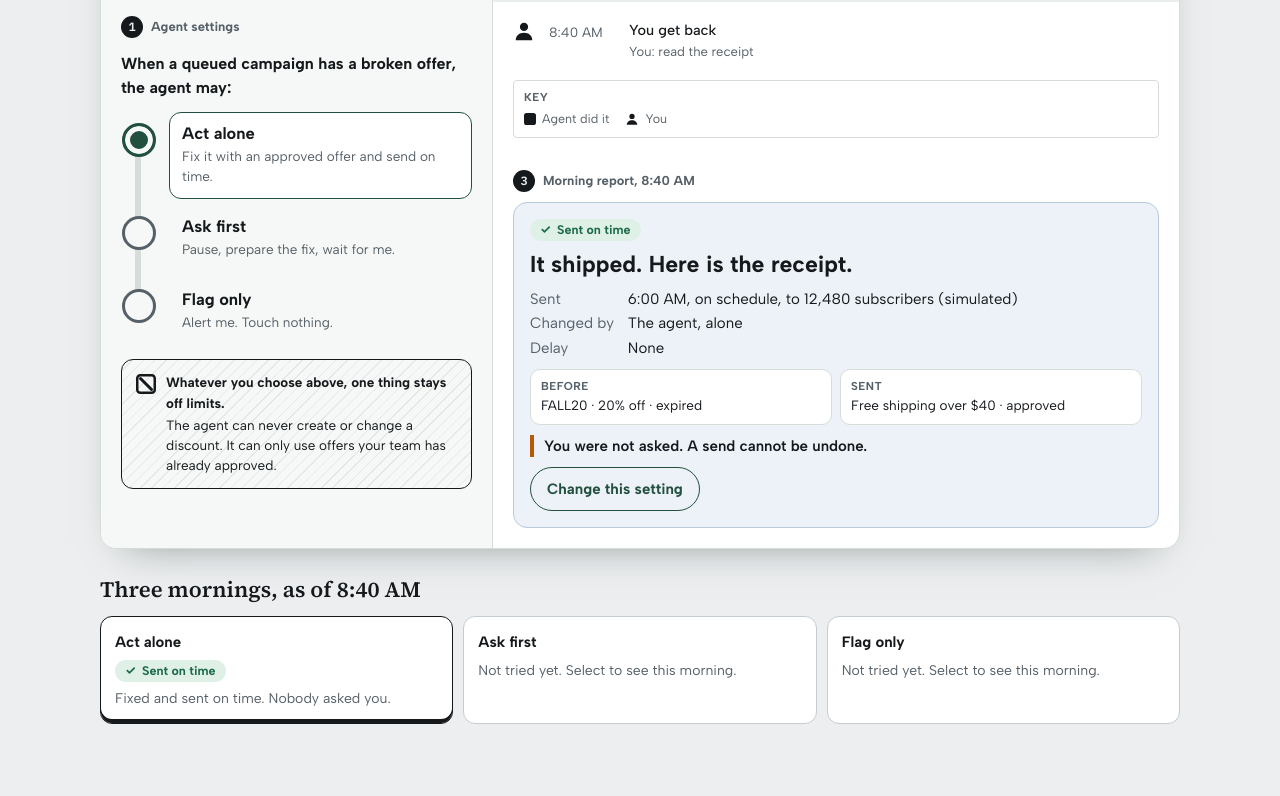
Test case: pass 4: card focus › moves focus to the morning report heading when a Three mornings card is used
(page scrolled)
Click the button "Flag only Not tried yet. Select to see this morning." at x=1003, y=670, box 827,616 -> 1180,724
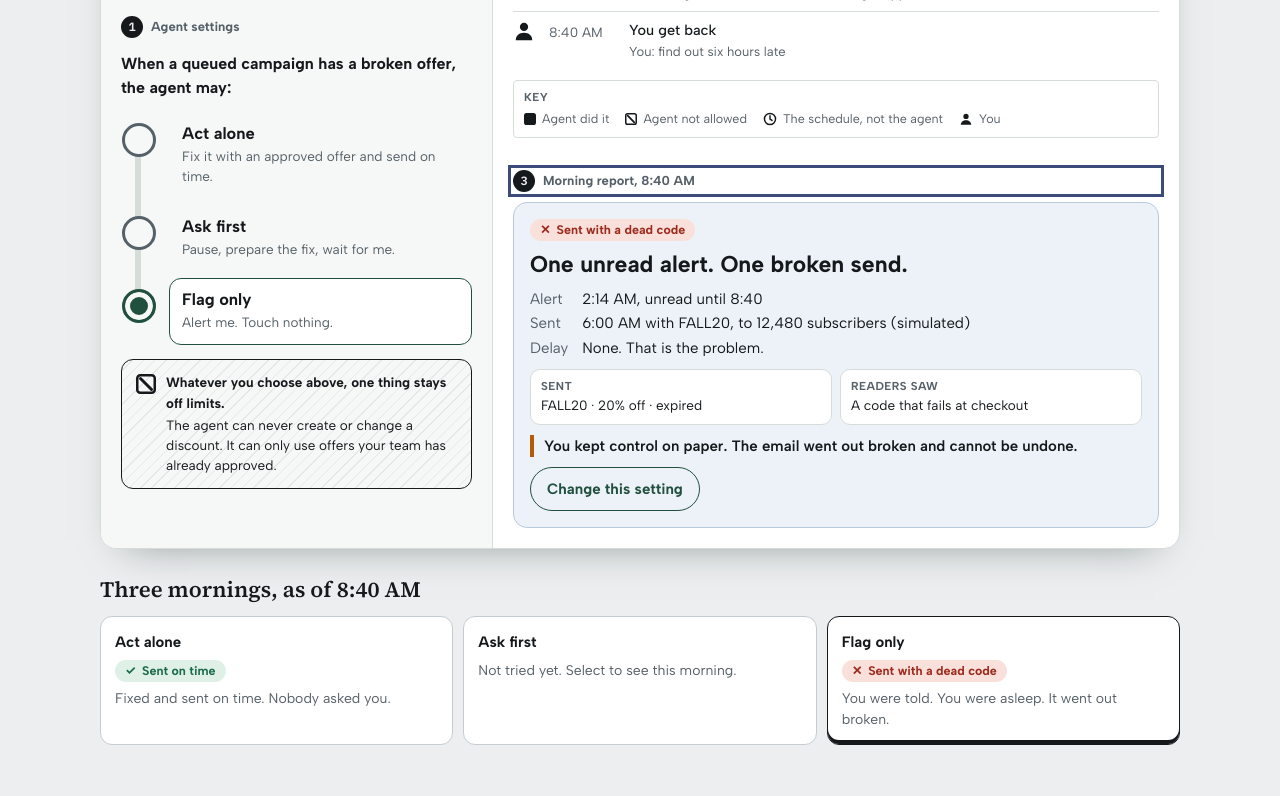
Check: the radio button labelled "Flag only" is checked, box 121,278 -> 472,345
